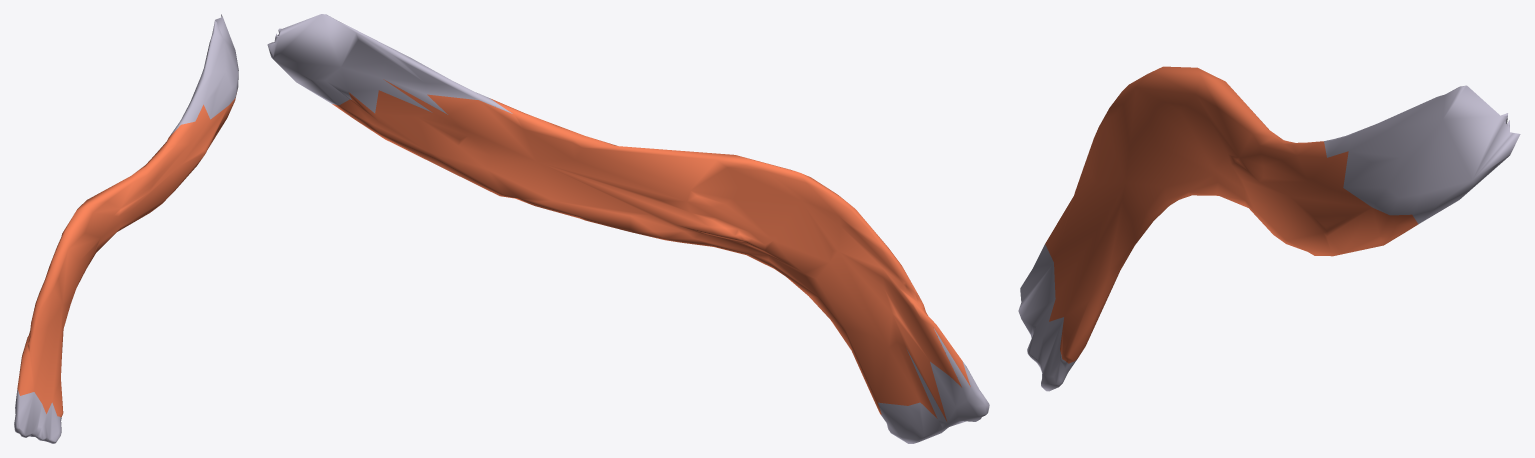
The model's file is Zygomaticus_minor_left.glb.
3 views of the same model, side by side, from view 1: azimuth 30°, elevation 25°; view 2: azimuth 150°, elevation 25°; view 3: azimuth 270°, elevation 25° (orthographic). The views are drawn at different scales.
Parts seen in each view (by area): view 1: Zygomaticus_minor_muscle.l_Generated_Mesh_From_X3D.121; view 2: Zygomaticus_minor_muscle.l_Generated_Mesh_From_X3D.121; view 3: Zygomaticus_minor_muscle.l_Generated_Mesh_From_X3D.121.
Part boxes in pixels (x1=…): Zygomaticus_minor_muscle.l_Generated_Mesh_From_X3D.121: x1=14, y1=14, x2=238, y2=443; Zygomaticus_minor_muscle.l_Generated_Mesh_From_X3D.121: x1=267, y1=14, x2=989, y2=443; Zygomaticus_minor_muscle.l_Generated_Mesh_From_X3D.121: x1=1018, y1=66, x2=1520, y2=391.
Size of the model in its own units: 0.0376 by 0.0306 by 0.0247.
